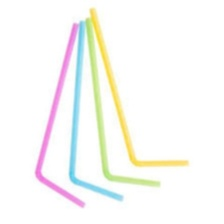drinking_straw: (86, 3, 193, 172), (82, 16, 164, 192), (65, 18, 127, 204), (32, 19, 90, 212)
